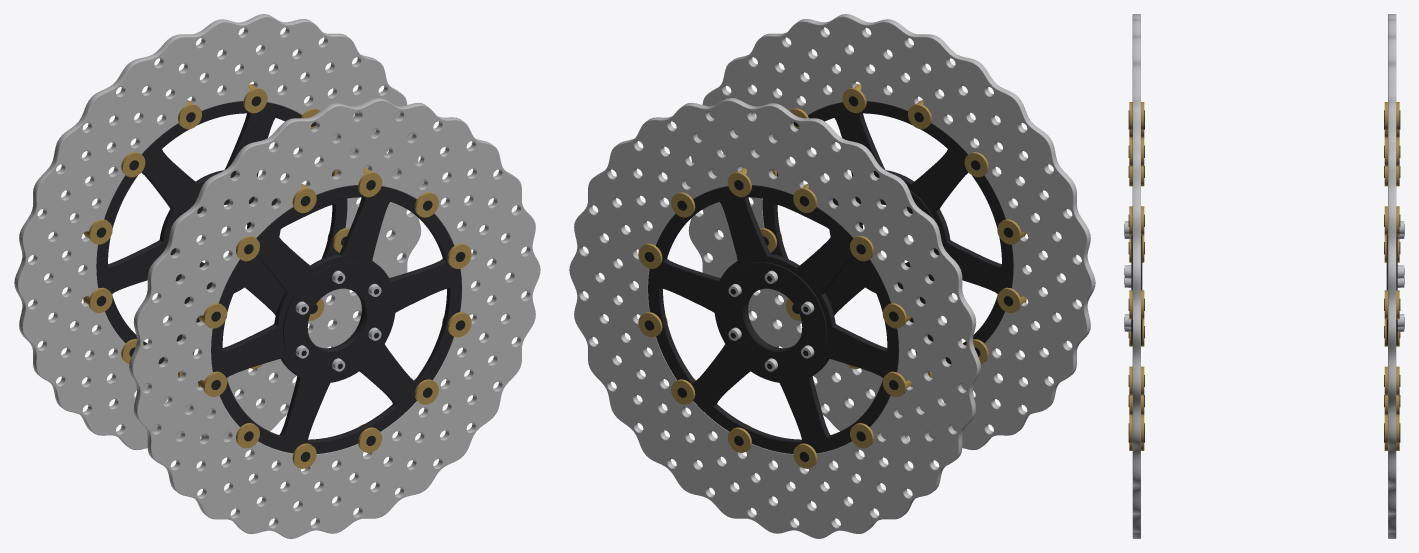
The model's file is wave.glb.
The picture shows the model from 3 angles, left to right: view 1: azimuth 30°, elevation 25°; view 2: azimuth 150°, elevation 25°; view 3: azimuth 270°, elevation 25°; orthographic projection. The views are drawn at different scales.
Visible parts, largest first — view 1: disc_front_wave; view 2: disc_front_wave; view 3: disc_front_wave.
Boxes of the visible parts, x1,y1,x2,y2 form: disc_front_wave: (14, 14, 540, 538); disc_front_wave: (569, 14, 1095, 538); disc_front_wave: (1124, 14, 1404, 538).
Size of the model in its own units: 0.3208 by 0.3208 by 0.1714.
